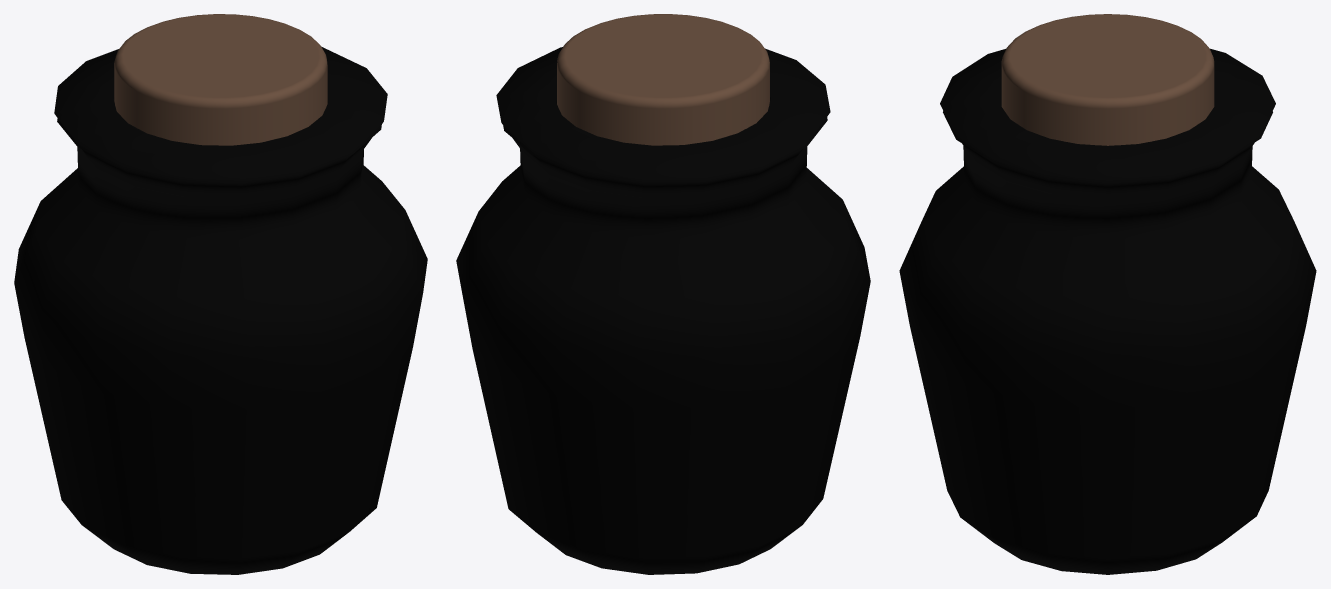
The model's file is Bottle_Origin.fbx.
The picture shows the model from 3 angles, left to right: view 1: azimuth 30°, elevation 25°; view 2: azimuth 150°, elevation 25°; view 3: azimuth 270°, elevation 25°; orthographic projection.
Visible parts, largest first — view 1: Body, Head; view 2: Body, Head; view 3: Body, Head.
Boxes of the visible parts, x1=… form: Body: x1=14, y1=46, x2=427, y2=574; Head: x1=114, y1=14, x2=327, y2=145; Body: x1=456, y1=47, x2=870, y2=574; Head: x1=557, y1=14, x2=769, y2=145; Body: x1=899, y1=48, x2=1316, y2=574; Head: x1=1001, y1=14, x2=1214, y2=145.
Size of the model in its own units: 49.89 by 49.89 by 61.58.
